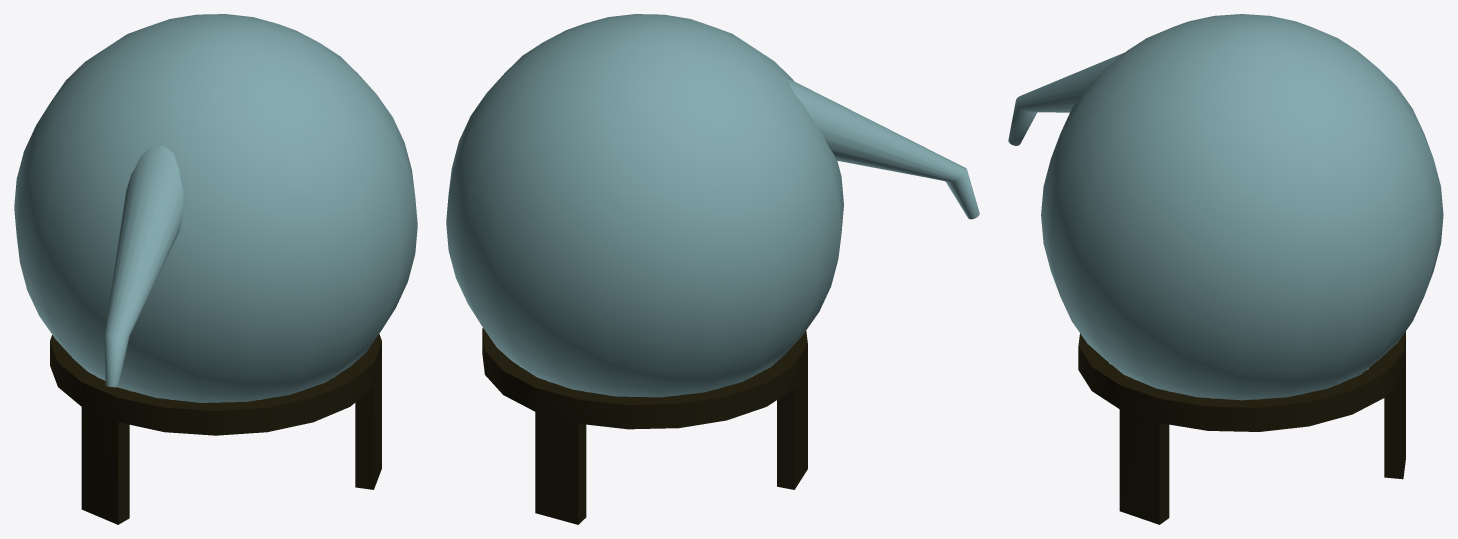
Rendered from ORB thing.fbx.
3 renders of one model, left to right at view 1: azimuth 30°, elevation 25°; view 2: azimuth 150°, elevation 25°; view 3: azimuth 270°, elevation 25°, orthographic.
Visible parts, largest first — view 1: polySurface2, polySurface1, pCylinder7; view 2: polySurface2, polySurface1, pCylinder7; view 3: polySurface2, polySurface1, pCylinder7.
Part boxes in pixels (x1,y1,x2,y2): polySurface2: (14, 14, 417, 402); polySurface1: (50, 334, 381, 524); pCylinder7: (104, 145, 183, 387); polySurface2: (446, 14, 843, 397); polySurface1: (482, 328, 807, 524); pCylinder7: (786, 78, 979, 219); polySurface2: (1041, 14, 1443, 400); polySurface1: (1078, 331, 1405, 524); pCylinder7: (1008, 52, 1124, 145).
Bounding box in the file's own units: 1.32 × 1.38 × 1.26.
